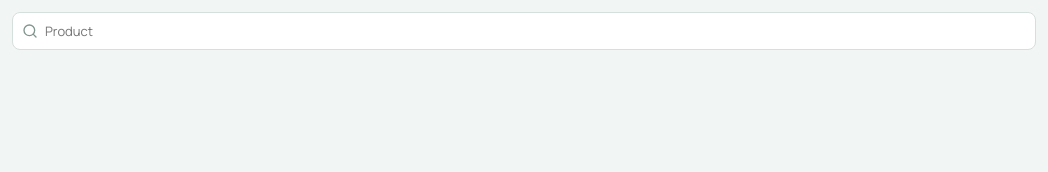
Test: keeps the option mounted through pointer down and selects on completed click
Type "NEW-SKU" into the field with placeholder "Product".
click(524, 31); type("NEW-SKU")  # box [12,12,1036,50]
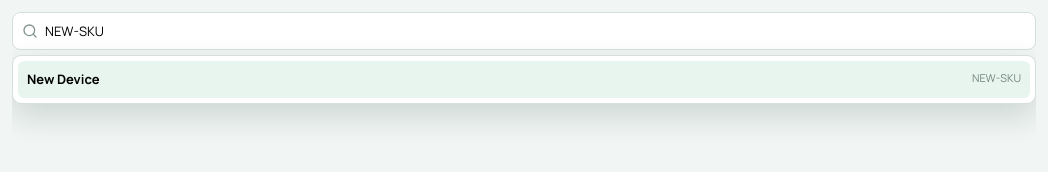
Press the mouse on the button "New Device NEW-SKU" at (63, 79), box [18,61,1030,98]
Check: the button "New Device NEW-SKU" is shown
Click the button "New Device NEW-SKU".
click(63, 79)  # box [18,61,1030,98]
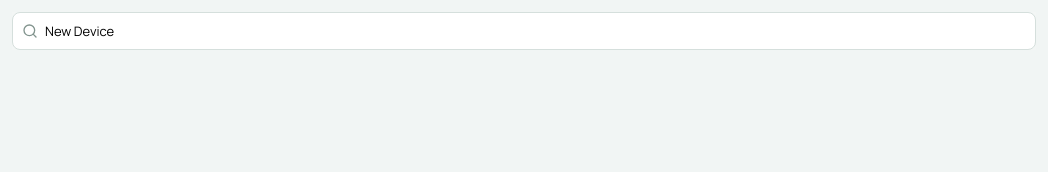
Check: the button "New Device NEW-SKU" is gone
